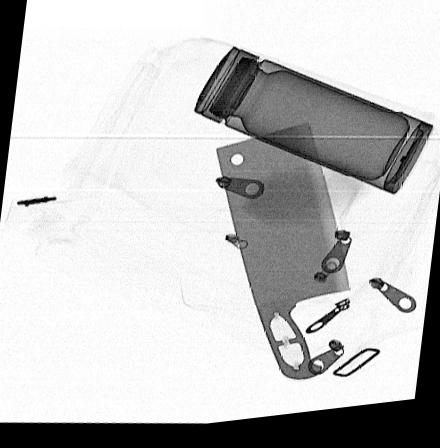Knife: (213, 125, 350, 389)
